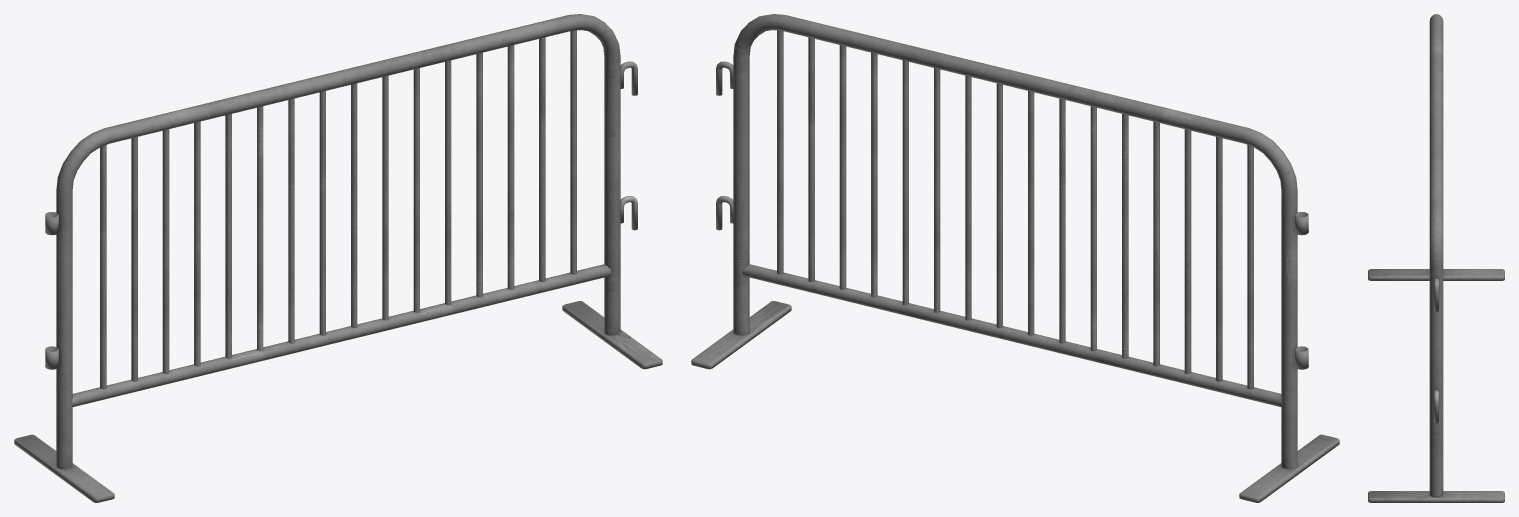
File: fence_barricade_02.glb
3 views of the same model, side by side, from view 1: azimuth 30°, elevation 25°; view 2: azimuth 150°, elevation 25°; view 3: azimuth 270°, elevation 25° (orthographic). The views are drawn at different scales.
Parts seen in each view (by area): view 1: Fence-Barricade_02_0; view 2: Fence-Barricade_02_0; view 3: Fence-Barricade_02_0.
Boxes of the visible parts, left/top/right/bottom form: Fence-Barricade_02_0: left=14, top=14, right=662, bottom=502; Fence-Barricade_02_0: left=691, top=14, right=1339, bottom=502; Fence-Barricade_02_0: left=1368, top=14, right=1504, bottom=502.
Bounding box in the file's own units: 1.68 × 0.8983 × 0.404.
1 material, 1 textured.
